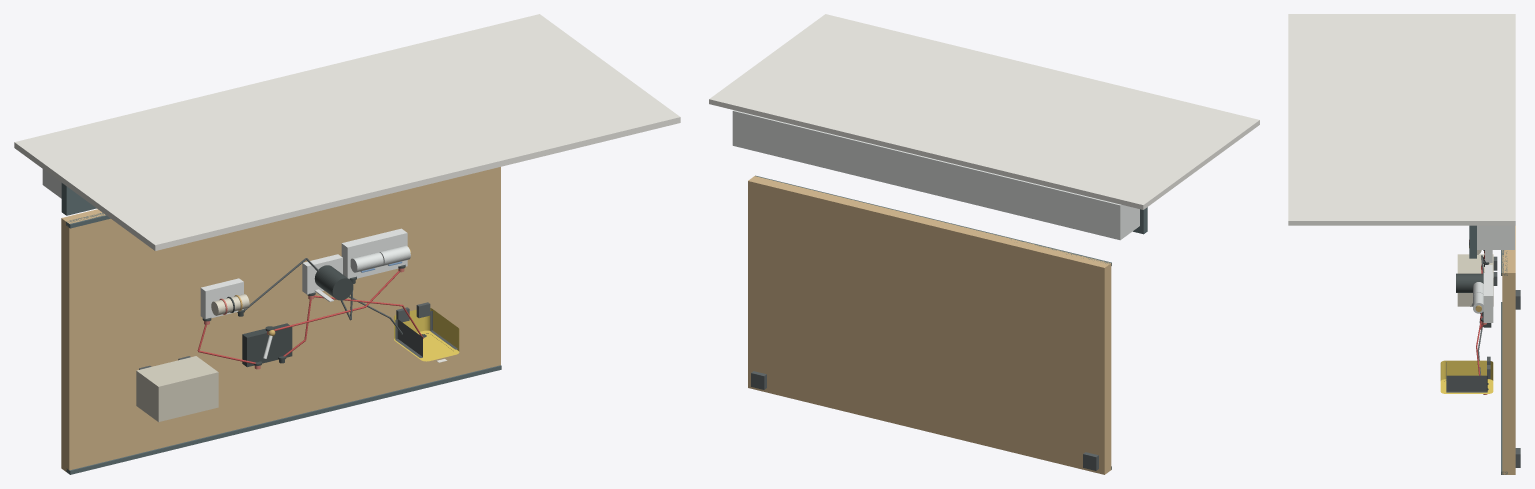
File: rp09-capacitor.glb
3 renders of one model, left to right at view 1: azimuth 30°, elevation 25°; view 2: azimuth 150°, elevation 25°; view 3: azimuth 270°, elevation 25°, orthographic. The views are drawn at different scales.
Parts seen in each view (by area): view 1: Laboratory background wall, Laboratory bench laminate, Stop clock grey case, Laboratory bench dark edge, Voltmeter yellow case, Cell holder white base, Two-position switch base, Resistor holder, Capacitor black body, Capacitor holder; view 2: Laboratory bench laminate, Laboratory background wall, Laboratory background cabinet carcass; view 3: Laboratory background wall, Laboratory bench laminate, Voltmeter yellow case, Laboratory background cabinet carcass, Stop clock grey case, Voltmeter right rubber side, Cell holder white base, Capacitor black body, Laboratory bench dark edge, Laboratory background worktop.
Boxes of the visible parts, box(x1,y1,x2,y2) form: Laboratory background wall: box(14, 14, 680, 250); Laboratory bench laminate: box(61, 167, 500, 471); Stop clock grey case: box(136, 356, 218, 421); Laboratory bench dark edge: box(66, 365, 501, 474); Voltmeter yellow case: box(394, 308, 459, 361); Cell holder white base: box(341, 228, 407, 278); Two-position switch base: box(242, 323, 292, 367); Resistor holder: box(200, 278, 243, 318); Capacitor black body: box(314, 265, 353, 300); Capacitor holder: box(302, 254, 342, 294); Laboratory bench laminate: box(748, 176, 1111, 474); Laboratory background wall: box(709, 14, 1259, 209); Laboratory background cabinet carcass: box(732, 110, 1139, 240); Laboratory background wall: box(1288, 14, 1515, 225); Laboratory bench laminate: box(1502, 225, 1515, 474); Voltmeter yellow case: box(1440, 360, 1493, 393); Laboratory background cabinet carcass: box(1477, 225, 1514, 249); Stop clock grey case: box(1457, 254, 1493, 306); Voltmeter right rubber side: box(1446, 375, 1487, 392); Cell holder white base: box(1483, 272, 1493, 322); Capacitor black body: box(1456, 273, 1483, 292); Laboratory bench dark edge: box(1501, 302, 1507, 474); Laboratory background worktop: box(1469, 225, 1476, 258).
Bounding box in the file's own units: 11.2 × 6.88 × 5.32.
